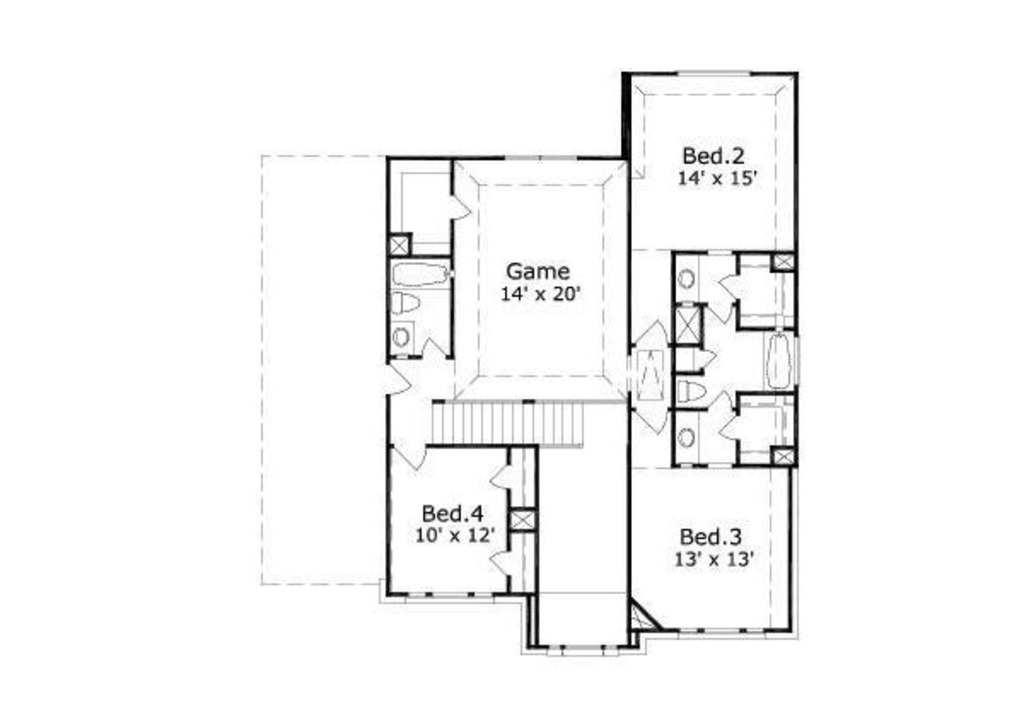door: (389, 443, 429, 473), (629, 320, 669, 350), (383, 364, 415, 399), (632, 404, 667, 434), (705, 300, 741, 328), (485, 550, 512, 586), (693, 345, 721, 377), (718, 273, 744, 305), (449, 195, 473, 227), (417, 339, 448, 361), (707, 391, 730, 418), (721, 418, 743, 439), (488, 470, 508, 492)
large_sink: (385, 293, 430, 322), (674, 373, 707, 408)
small_sink: (675, 410, 709, 466), (674, 245, 703, 303), (387, 321, 411, 362)
stairs: (433, 397, 588, 450)
tub: (752, 326, 797, 394), (386, 260, 449, 291)
window: (405, 587, 490, 603), (506, 151, 578, 166), (674, 67, 748, 77), (681, 627, 758, 636)
